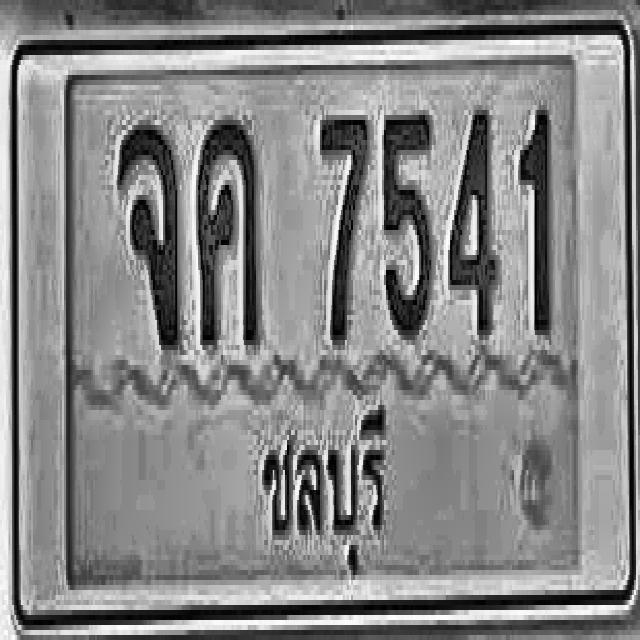license-plate: (10, 34, 640, 640)
